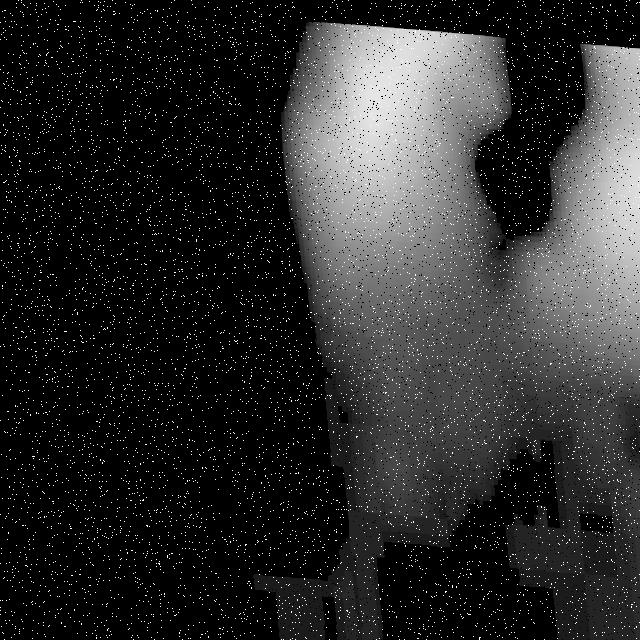person: (266, 15, 513, 377), (535, 32, 640, 432)
